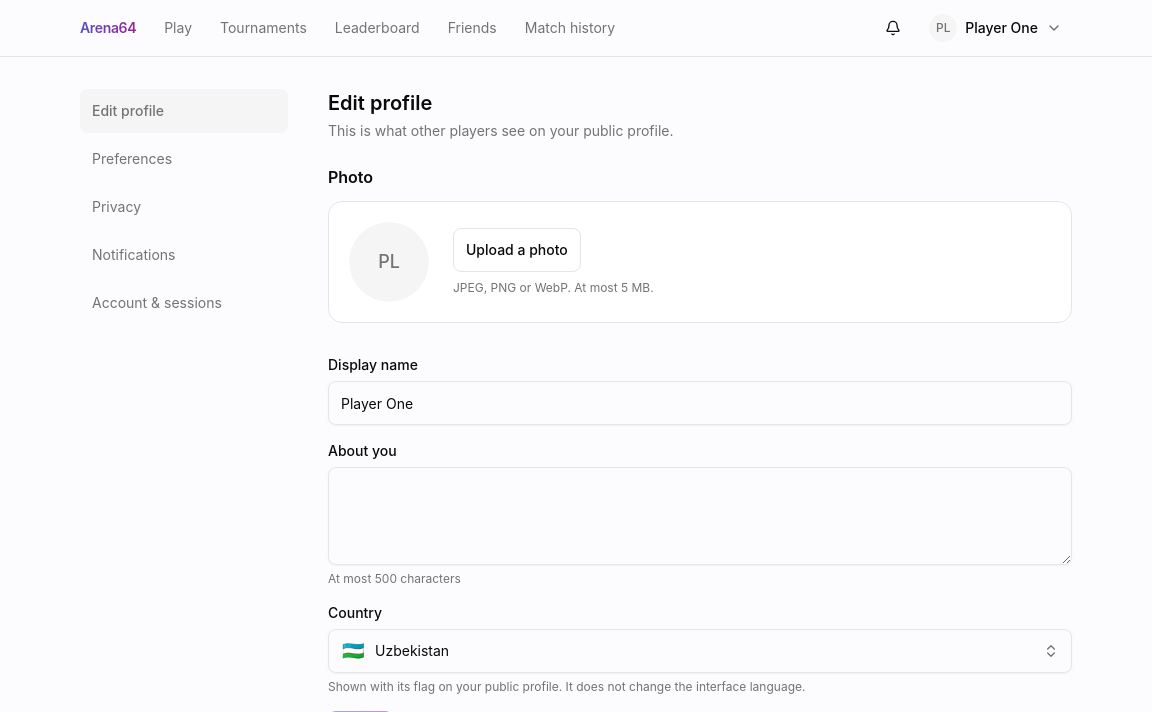
it: choosing a country › closes on Escape without changing anything
Click the button named "country uzbekistan" at (412, 650), box [328,629,1072,673]
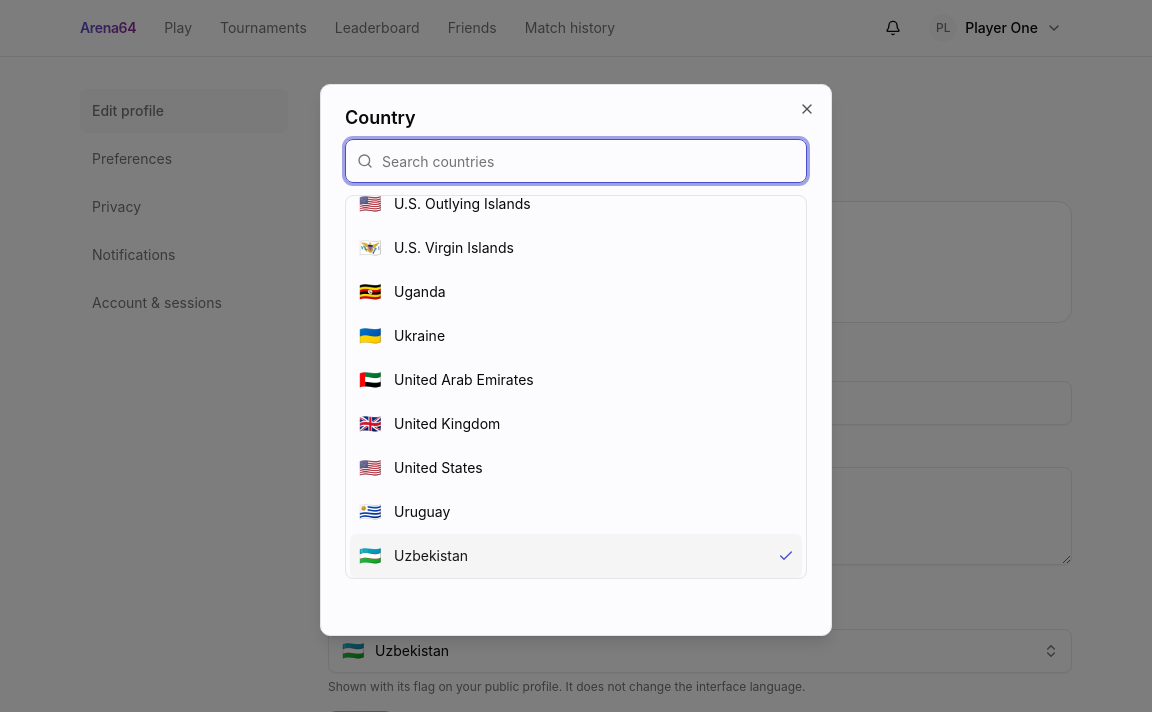
Press Arrowdown Arrowdown Escape
(page scrolled)
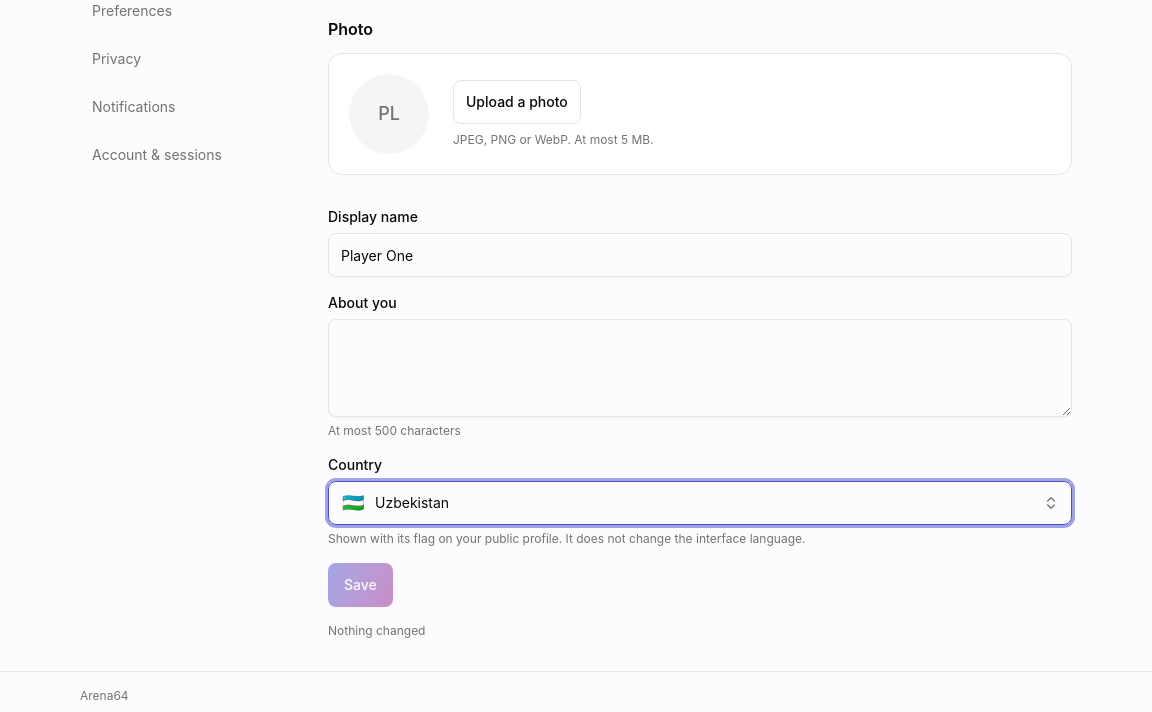
Expected: the button "Save" is disabled, [328,563,393,607]
Result: the dialog is gone
